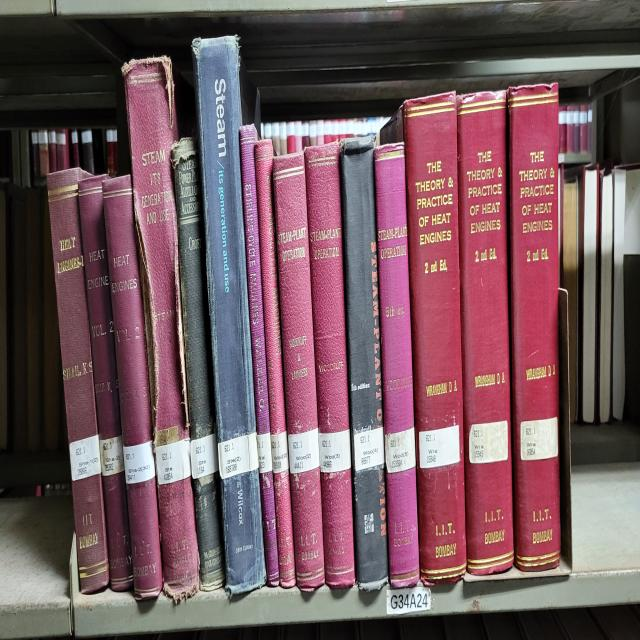Book: (122, 57, 199, 601), (192, 35, 265, 595), (402, 92, 466, 584), (458, 92, 514, 576), (508, 84, 561, 571), (48, 168, 109, 590), (102, 176, 162, 601), (171, 138, 225, 590), (272, 152, 325, 590), (304, 141, 355, 587), (340, 138, 389, 590), (79, 176, 132, 590), (375, 143, 420, 587), (254, 141, 296, 587), (240, 124, 279, 584)
Label: (156, 427, 191, 484), (218, 433, 259, 479), (419, 425, 460, 468), (469, 419, 508, 463), (520, 417, 558, 460), (69, 433, 101, 482), (289, 427, 320, 473), (385, 427, 416, 473), (319, 430, 351, 473), (354, 427, 385, 471), (190, 433, 219, 479), (124, 441, 155, 484), (100, 436, 124, 476), (271, 430, 289, 473), (256, 433, 272, 473)
